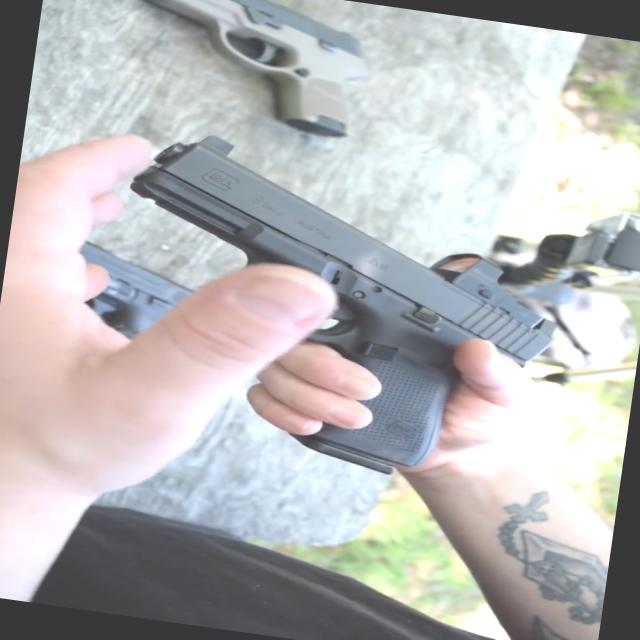handgun: (91, 100, 584, 512), (110, 0, 409, 171)
